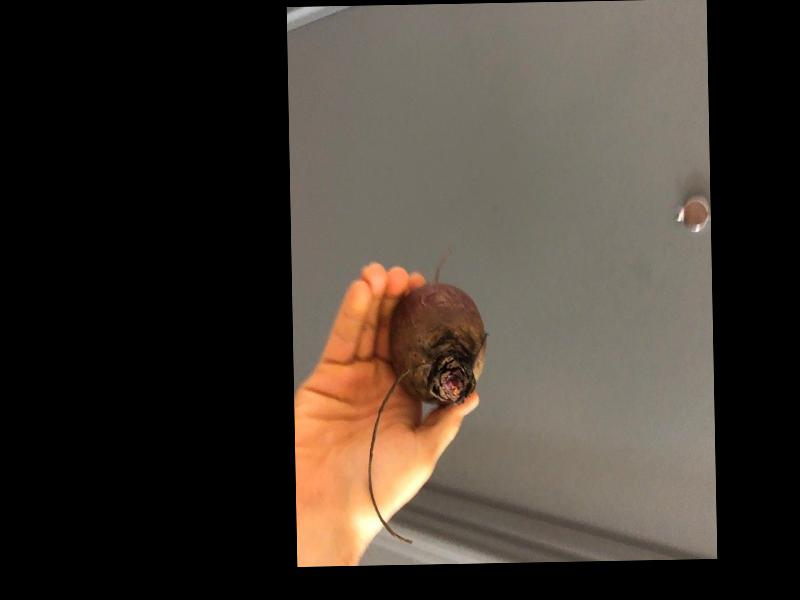Beet: (363, 251, 489, 543)
